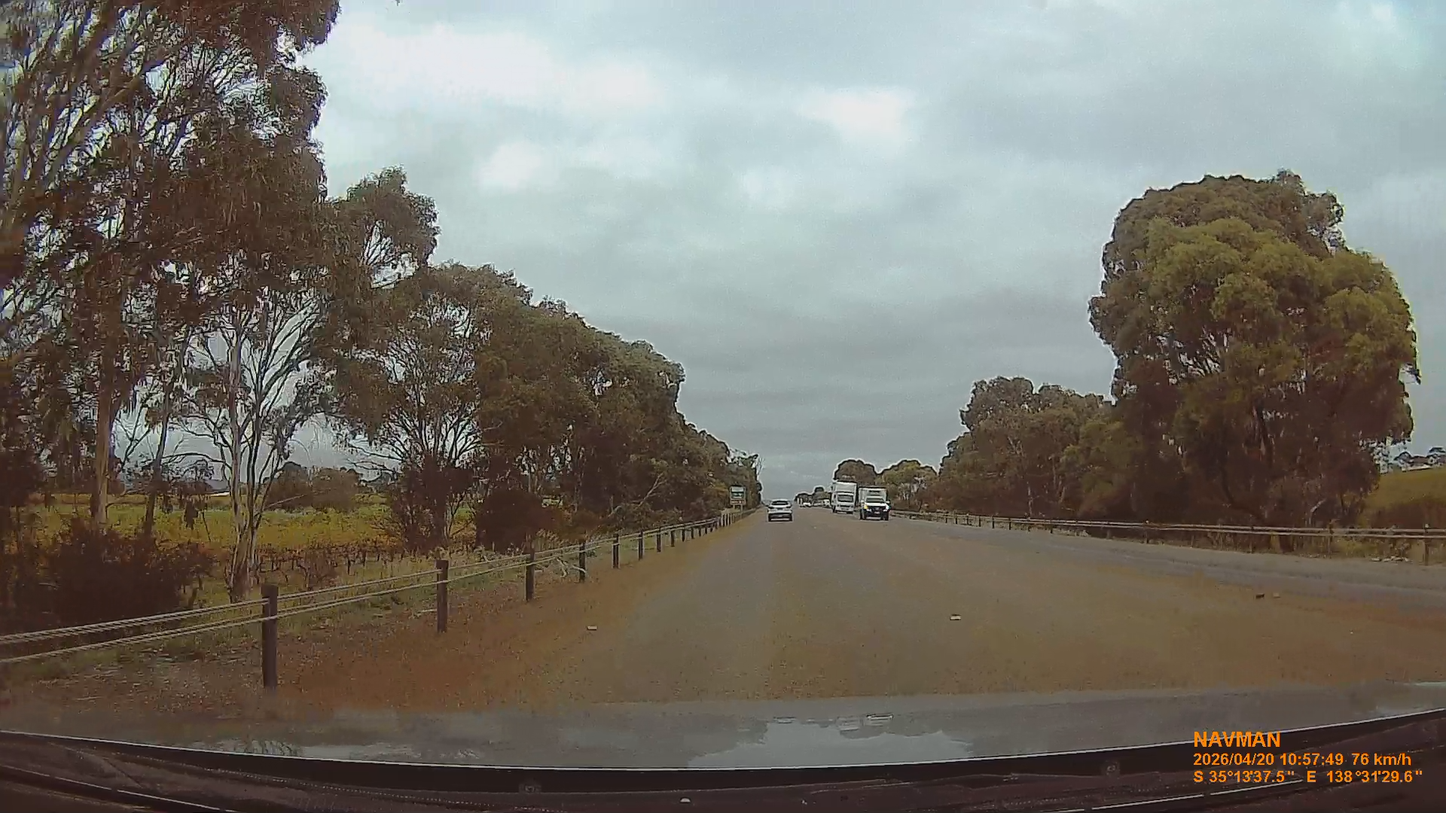road barriers: (931, 515, 1445, 562)
